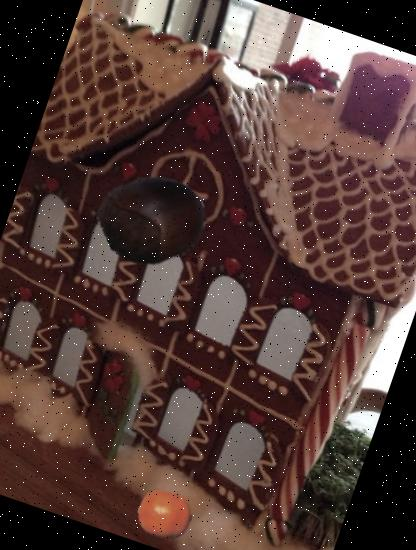Chestnut: (89, 154, 220, 285)
Clementine: (130, 480, 199, 550)
